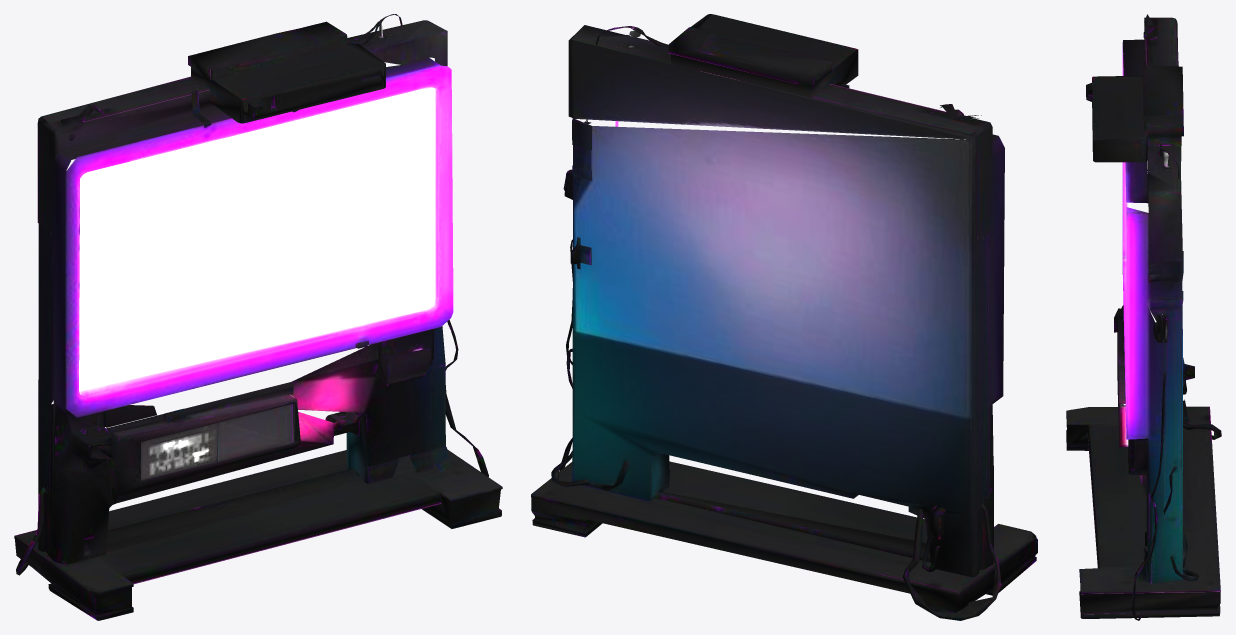
The model's file is holo_screen.glb.
3 views of the same model, side by side, from view 1: azimuth 30°, elevation 25°; view 2: azimuth 150°, elevation 25°; view 3: azimuth 270°, elevation 25° (orthographic). The views are drawn at different scales.
Parts seen in each view (by area): view 1: Body, Glow; view 2: Body, Glow; view 3: Body, Glow.
Boxes of the visible parts, box(x1,y1,x2,y2) form: Body: box(14, 14, 502, 620); Glow: box(65, 65, 453, 444); Body: box(531, 14, 1037, 620); Glow: box(574, 121, 969, 418); Body: box(1066, 14, 1221, 620); Glow: box(1119, 42, 1148, 485).
Size of the model in its own units: 4.28 by 4.4 by 1.41.
Materials: 2 (2 with a texture image).
